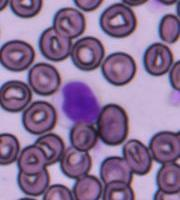L: (54, 78, 103, 126)
